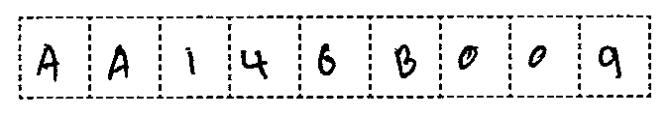0: (448, 38, 487, 78), (520, 40, 557, 74)
1: (170, 39, 207, 85)
4: (236, 45, 280, 89)
6: (308, 39, 346, 79)
9: (593, 42, 633, 85)
A: (26, 39, 66, 84), (102, 39, 133, 85)
B: (389, 40, 424, 84)
